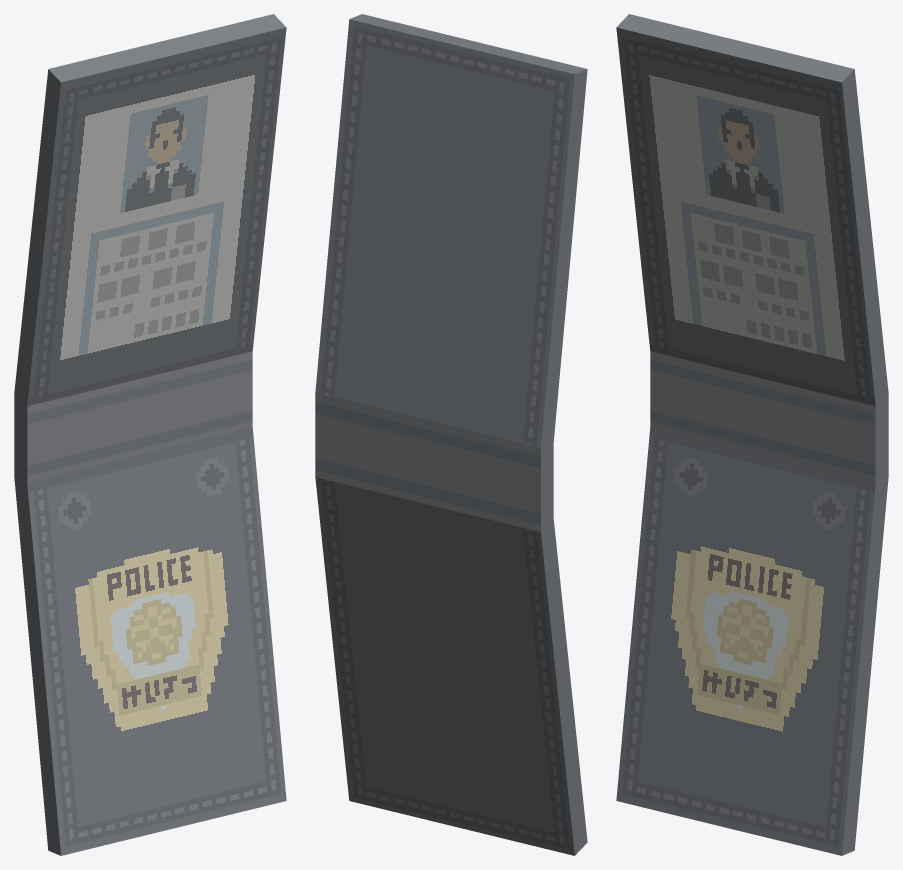
Rendered from 0043_Police_ID.glb.
3 views of the same model, side by side, from view 1: azimuth 30°, elevation 25°; view 2: azimuth 150°, elevation 25°; view 3: azimuth 330°, elevation 25° (orthographic).
Visible parts, largest first — view 1: part_0; view 2: part_0; view 3: part_0.
Part boxes in pixels (bbox=[...]): part_0: bbox=[14, 14, 286, 855]; part_0: bbox=[315, 14, 587, 855]; part_0: bbox=[616, 14, 888, 855].
Bounding box in the file's own units: 0.08 × 0.2649 × 0.0287.
1 material, 1 textured.
